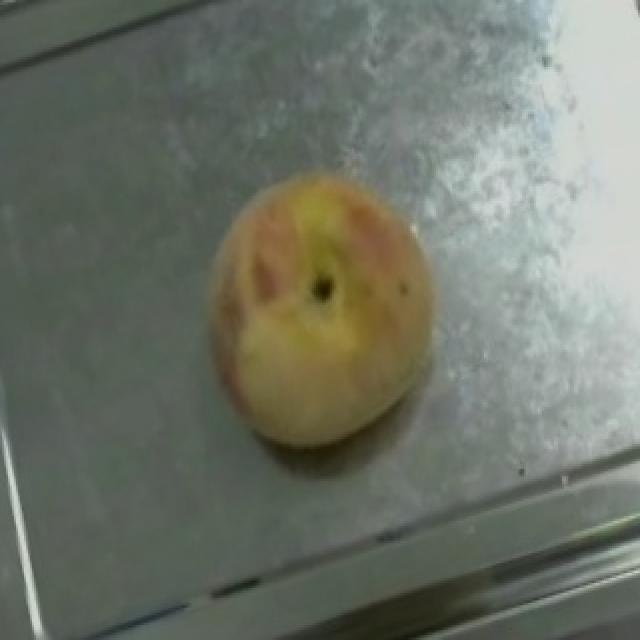Fruit: (160, 129, 492, 491)
